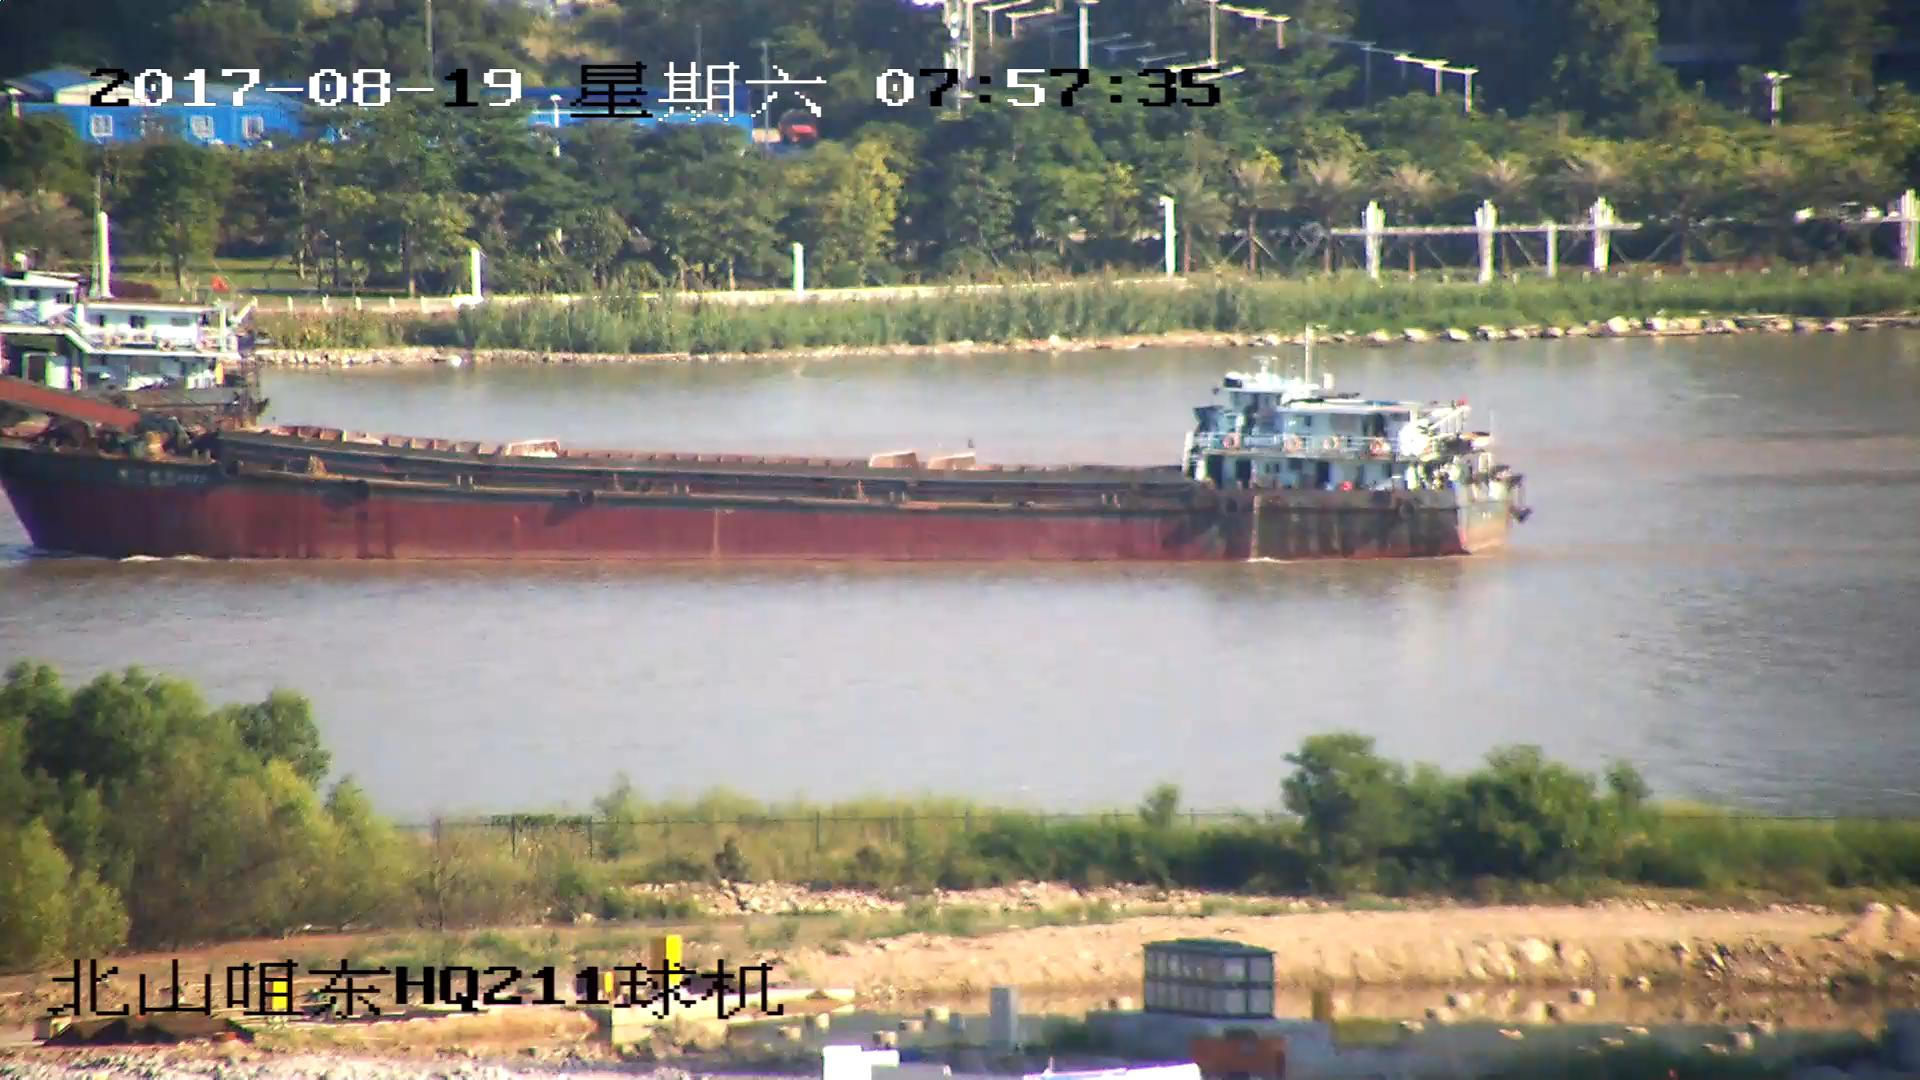bulk cargo carrier: (1, 310, 1535, 571)
